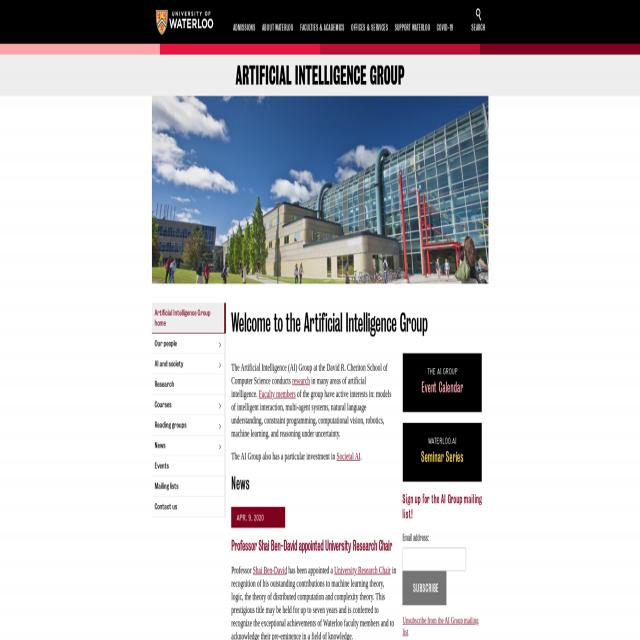button: (403, 352, 482, 413), (403, 422, 482, 483), (152, 303, 226, 333), (152, 333, 226, 354), (152, 374, 226, 395), (152, 394, 226, 415), (152, 415, 226, 436), (152, 435, 226, 456), (152, 476, 226, 497), (156, 10, 214, 36), (152, 354, 226, 374), (152, 456, 226, 476), (152, 497, 226, 517), (403, 571, 446, 605), (298, 16, 348, 38), (467, 0, 489, 42), (348, 18, 391, 38), (259, 16, 298, 38), (390, 18, 432, 38), (227, 16, 259, 38), (432, 18, 457, 38)
field: (403, 548, 466, 571)
